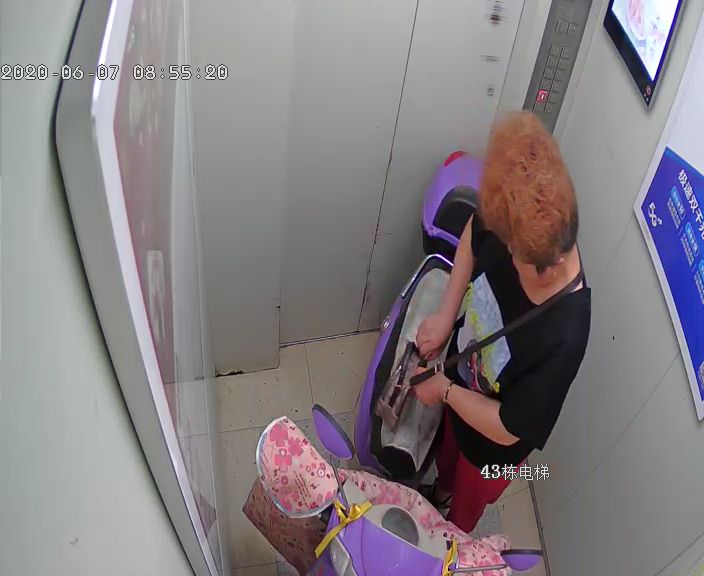Electric-bicycle: (326, 152, 482, 576)
